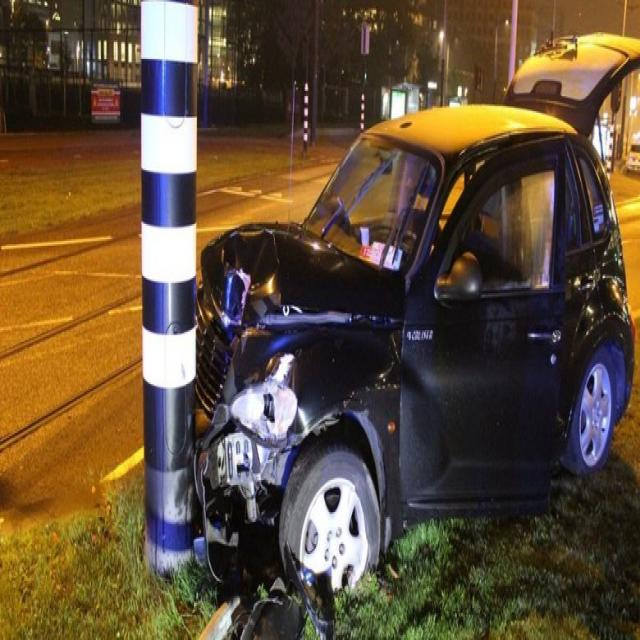accident: (183, 67, 589, 582)
